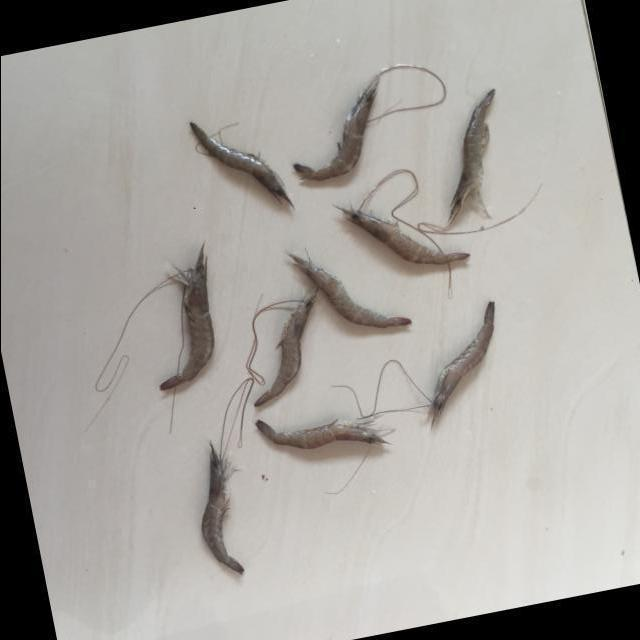shrimp: (287, 253, 411, 328), (293, 75, 379, 181), (189, 122, 292, 208), (158, 244, 213, 391), (431, 302, 495, 424), (253, 289, 317, 407), (337, 207, 469, 264), (447, 89, 495, 226), (200, 443, 243, 575), (255, 420, 385, 450)
